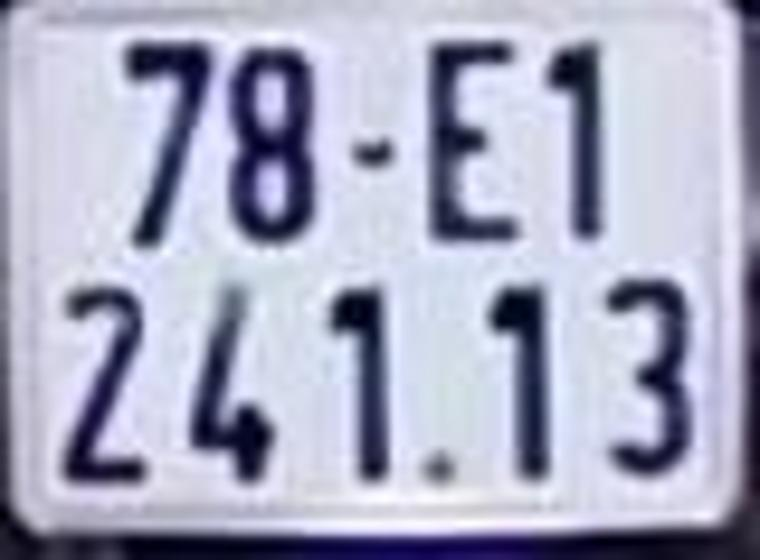-: (348, 132, 410, 172)
.: (419, 449, 460, 491)
1: (539, 34, 614, 245), (326, 278, 399, 480), (490, 278, 557, 481)
2: (51, 280, 151, 491)
3: (606, 274, 698, 484)
4: (182, 288, 283, 485)
7: (112, 38, 225, 248)
8: (227, 40, 318, 243)
E: (425, 34, 527, 243)
